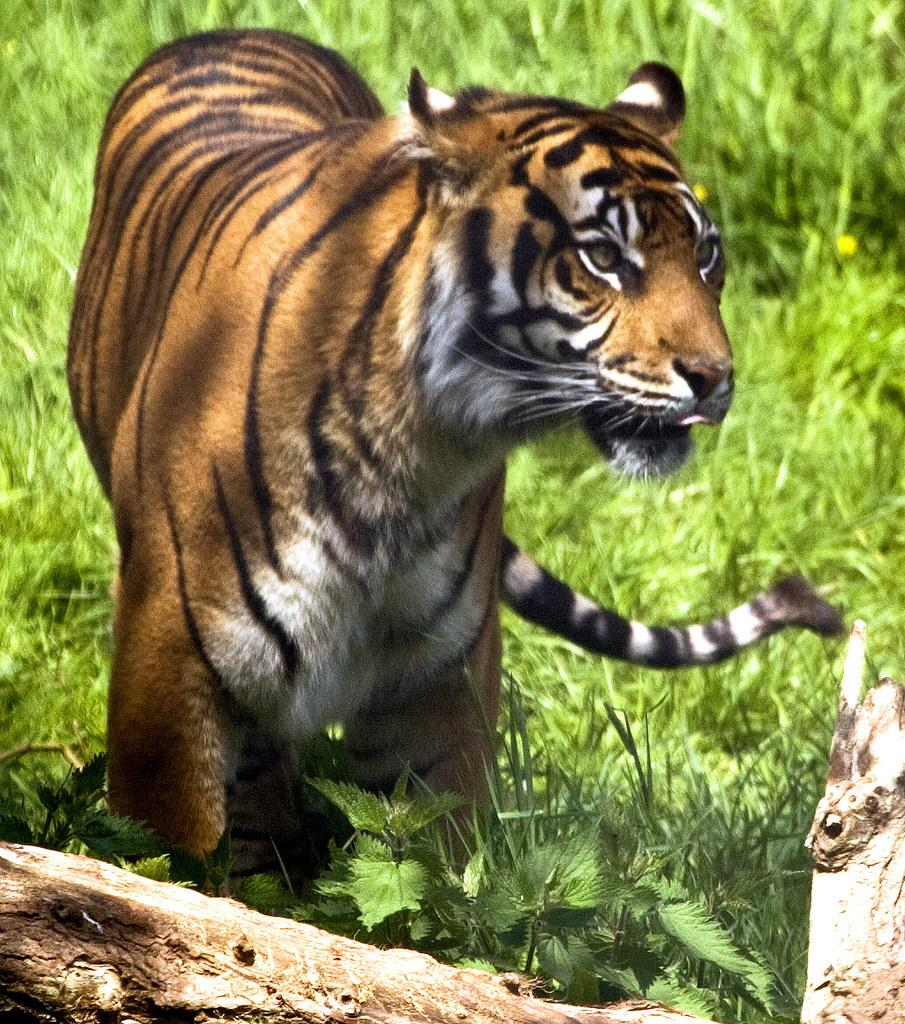tiger: (65, 26, 846, 898)
